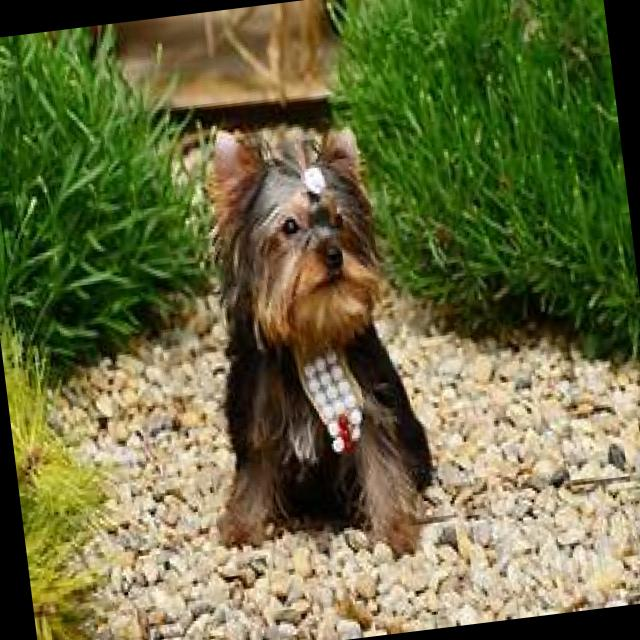animal: (177, 112, 442, 550)
